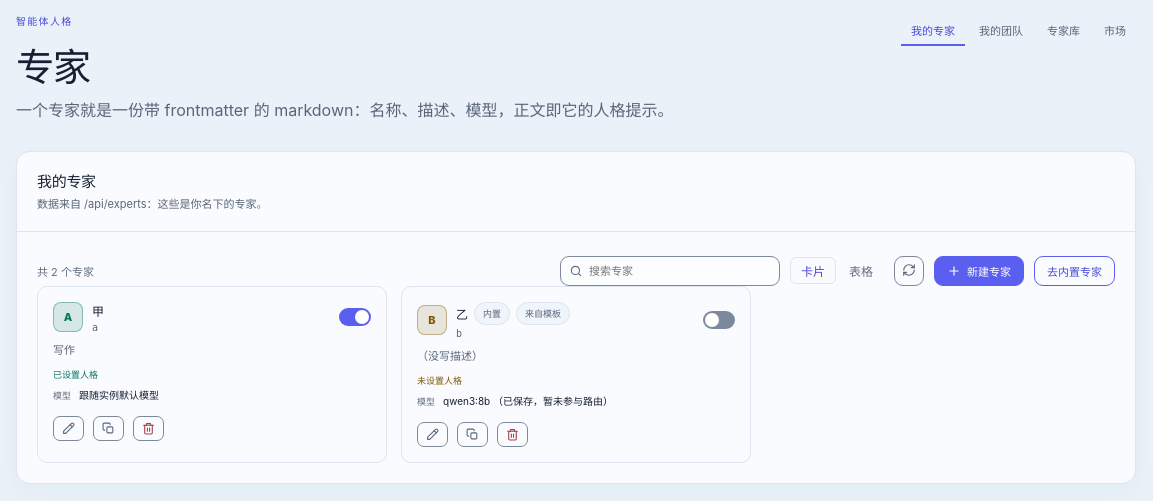
Test: 表格视图七列齐全，状态列只显示默认启用与否
This screenshot has width=1153, height=501.
Click the button "表格" at x=861, y=271, box [838,257,884,284]
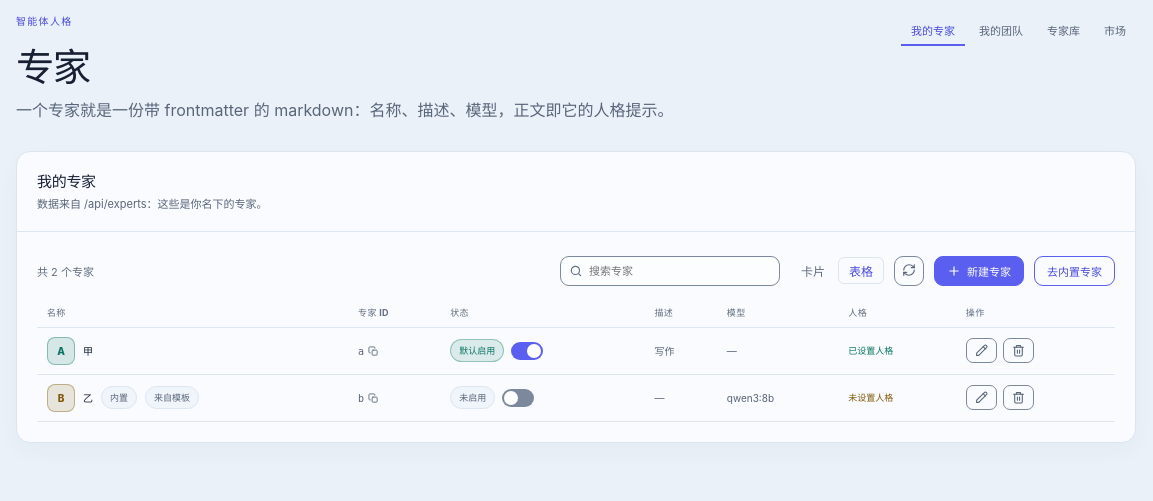
Expected: the column heading "名称" is shown, [37,298,348,327]
Expected: the column heading "专家 ID" is shown, [348,298,440,327]
Expected: the column heading "状态" is shown, [440,298,644,327]
